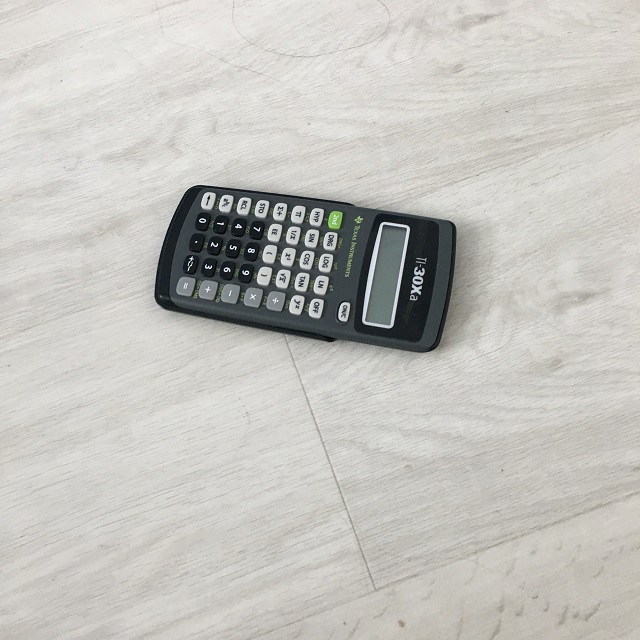calculator: (149, 183, 458, 361)
